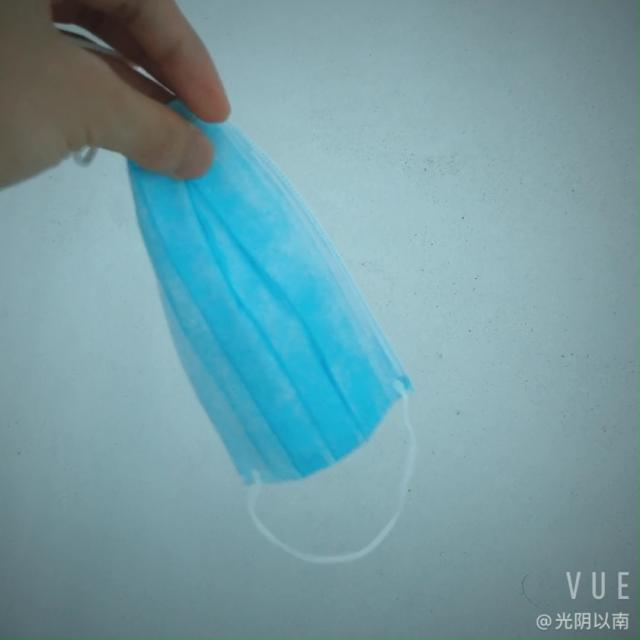non-organic waste: (143, 93, 426, 500)
